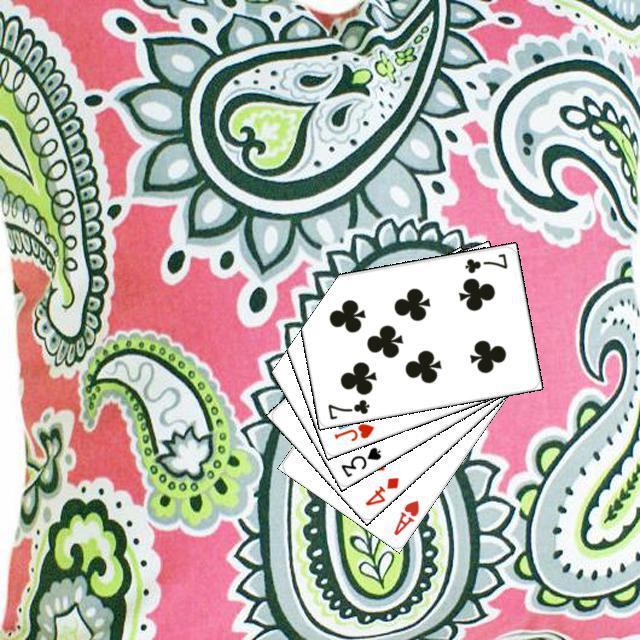3s: (336, 442, 383, 479)
4d: (360, 472, 401, 507)
7c: (460, 248, 509, 275), (323, 394, 371, 421)
Ah: (389, 495, 421, 537)
Jh: (329, 418, 376, 443)
